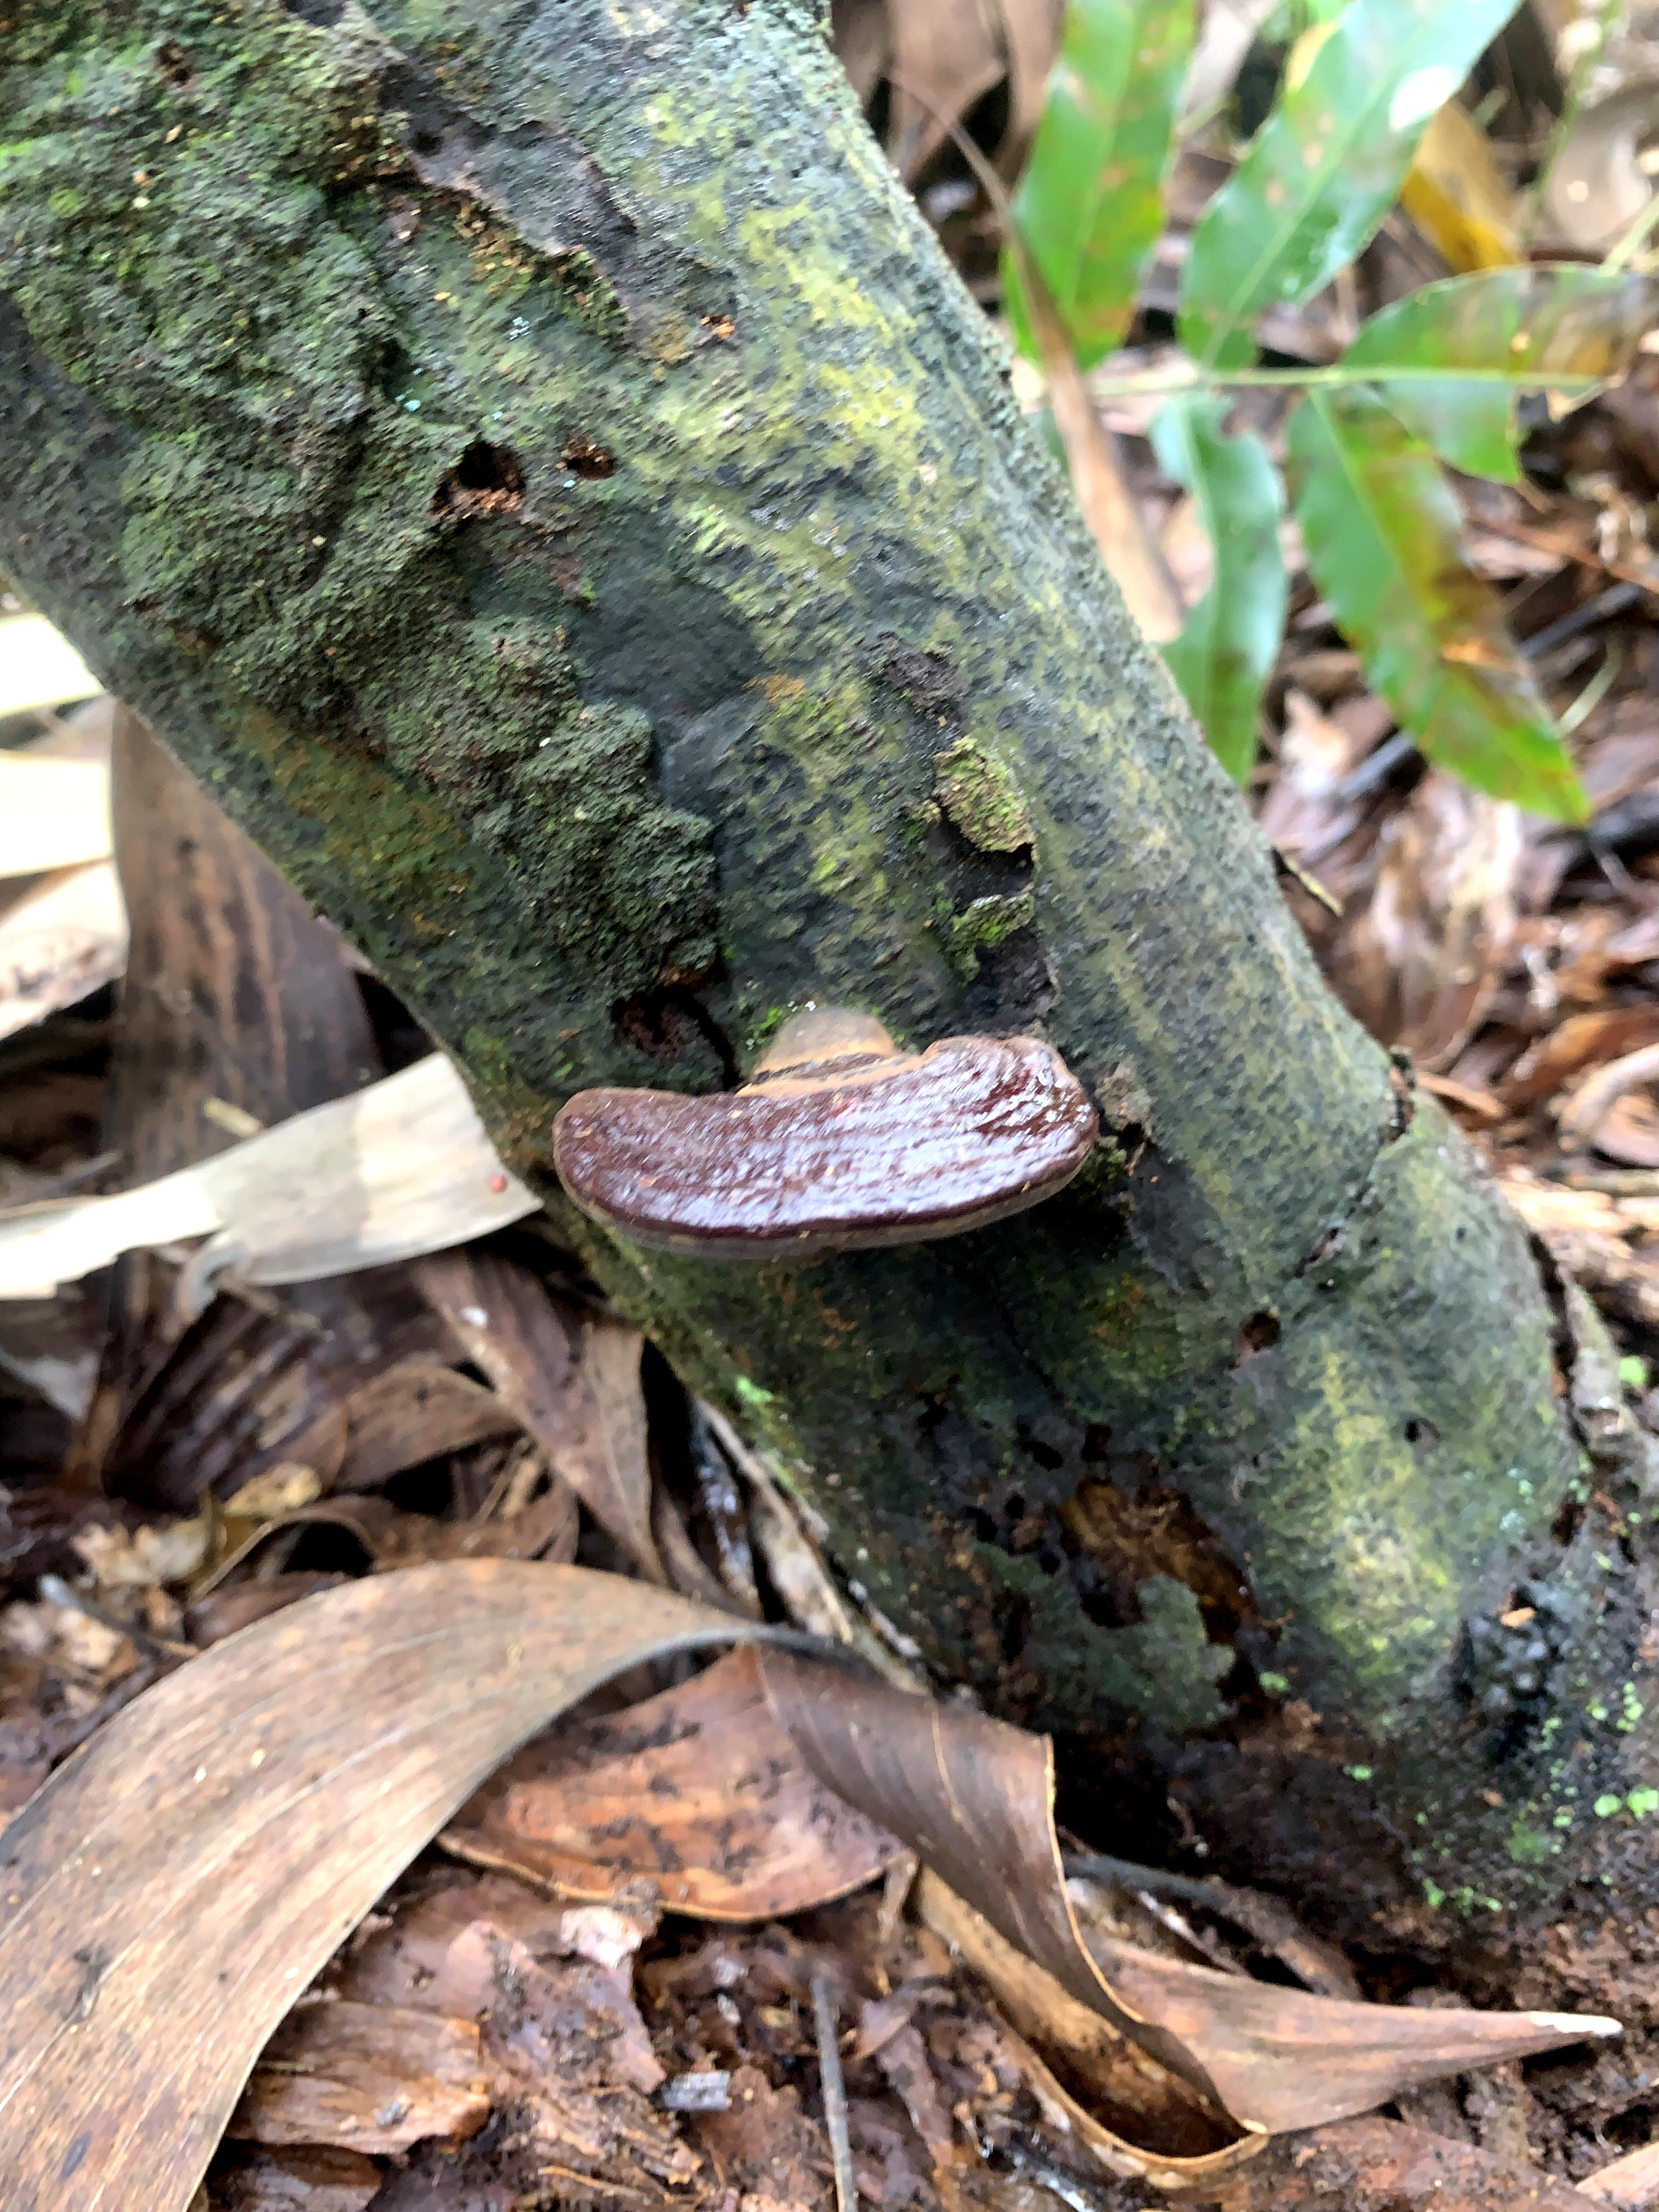Ganoderma - Fruit Body: (533, 1038, 1091, 1244)
